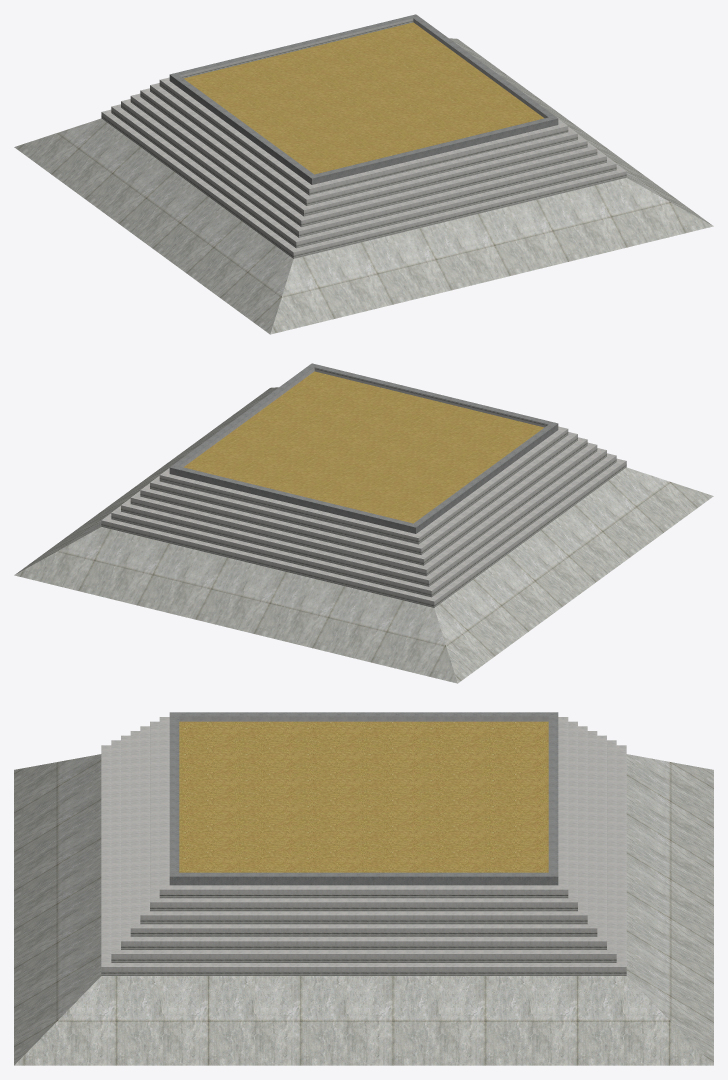
Rendered from ply_corl_garden_sml_s01_l0.fbx.
3 views of the same model, one above another, from view 1: azimuth 30°, elevation 25°; view 2: azimuth 150°, elevation 25°; view 3: azimuth 270°, elevation 25° (orthographic). The views are drawn at different scales.
Visible parts, largest first — view 1: mesh_node; view 2: mesh_node; view 3: mesh_node.
Part boxes in pixels (<box>): mesh_node: <box>14,14,713,334</box>; mesh_node: <box>14,363,713,683</box>; mesh_node: <box>14,712,713,1065</box>.
Size of the model in its own units: 18 by 3.5 by 18.
